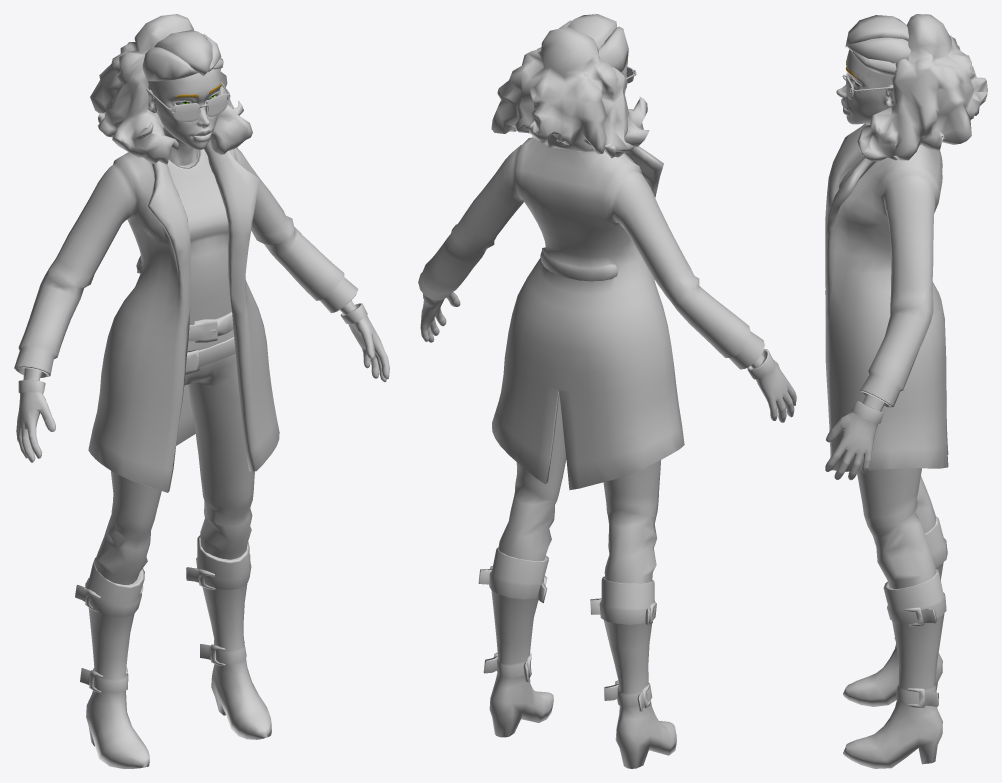
Rendered from W Character 14.fbx.
3 views of the same model, side by side, from view 1: azimuth 30°, elevation 25°; view 2: azimuth 150°, elevation 25°; view 3: azimuth 270°, elevation 25° (orthographic).
Parts seen in each view (by area): view 1: Wolf3D_Body, Wolf3D_Outfit_Footwear.002, Wolf3D_Outfit_Bottom.006, Wolf3D_Hair.003, head, Wolf3D_Glasses.004; view 2: Wolf3D_Body, Wolf3D_Outfit_Footwear.002, Wolf3D_Hair.003, Wolf3D_Outfit_Bottom.006; view 3: Wolf3D_Body, Wolf3D_Hair.003, Wolf3D_Outfit_Footwear.002, Wolf3D_Outfit_Bottom.006, head.
Part boxes in pixels (x1,y1,x2,y2): Wolf3D_Body: [14, 142, 389, 492]; Wolf3D_Outfit_Footwear.002: [75, 535, 271, 768]; Wolf3D_Outfit_Bottom.006: [94, 312, 254, 584]; Wolf3D_Hair.003: [90, 14, 252, 164]; head: [147, 68, 221, 165]; Wolf3D_Glasses.004: [146, 81, 230, 121]; Wolf3D_Body: [418, 137, 796, 490]; Wolf3D_Outfit_Footwear.002: [478, 547, 676, 768]; Wolf3D_Hair.003: [491, 14, 649, 158]; Wolf3D_Outfit_Bottom.006: [498, 395, 660, 583]; Wolf3D_Body: [825, 123, 948, 480]; Wolf3D_Hair.003: [845, 14, 987, 161]; Wolf3D_Outfit_Footwear.002: [843, 516, 947, 768]; Wolf3D_Outfit_Bottom.006: [857, 468, 936, 589]; head: [836, 49, 894, 124].
Bounding box in the file's own units: 101 × 189 × 38.96.
